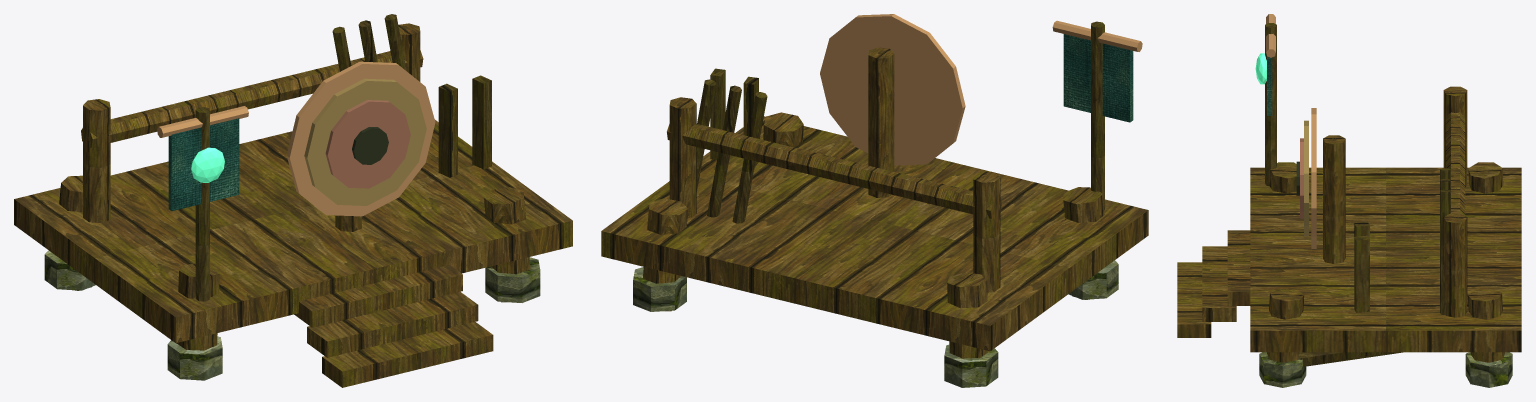
Rendered from 02-reed-range.glb.
3 renders of one model, left to right at view 1: azimuth 30°, elevation 25°; view 2: azimuth 150°, elevation 25°; view 3: azimuth 270°, elevation 25°, orthographic. The views are drawn at different scales.
Visible parts, largest first — view 1: 02-reed-range; view 2: 02-reed-range; view 3: 02-reed-range.
Boxes of the visible parts, bbox=[...] form: 02-reed-range: bbox=[14, 14, 572, 387]; 02-reed-range: bbox=[601, 14, 1148, 387]; 02-reed-range: bbox=[1177, 14, 1521, 387].
Bounding box in the file's own units: 3.07 × 1.97 × 2.73.
Materials: 9 (4 with a texture image).
